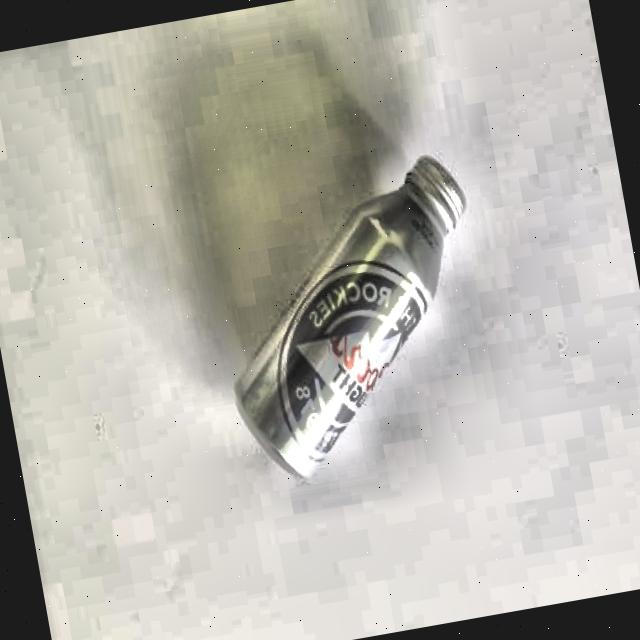metal: (191, 150, 512, 490)
